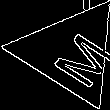M_NW: (33, 19, 107, 86)
